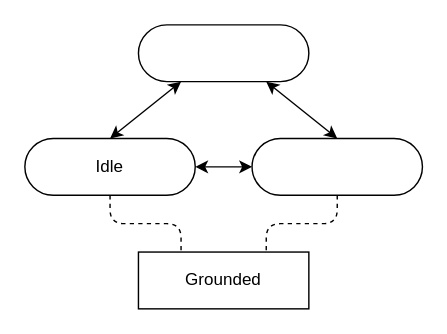
This 447x334 diagram has some shape labels left out. Each missing label, with the box of its shape:
Jump: (137, 23, 309, 82)
Moving: (251, 137, 422, 195)
